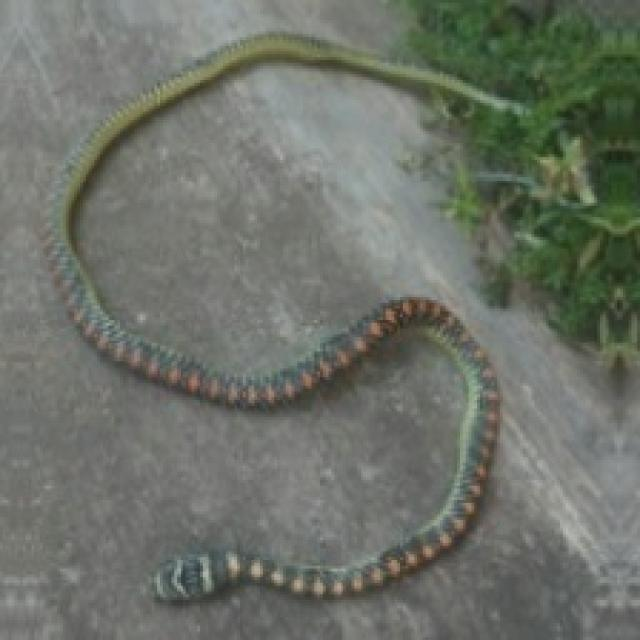paradise tree snake: (49, 34, 520, 600)
